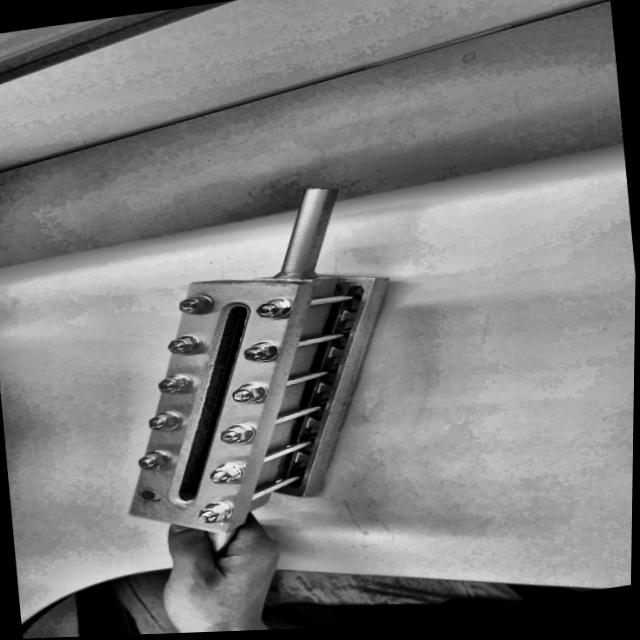ShuiWeiQi_11: (34, 177, 448, 547)
